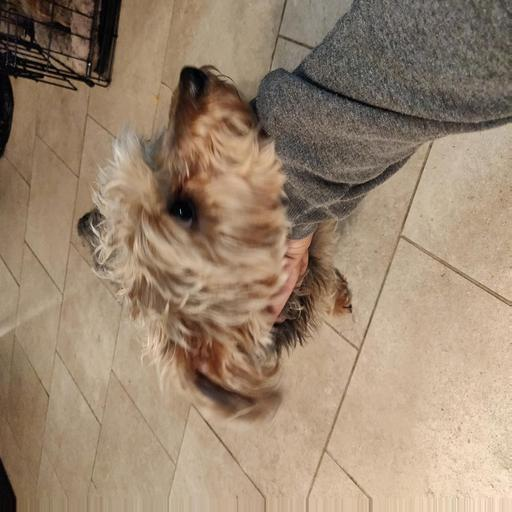dog: (88, 62, 440, 414)
